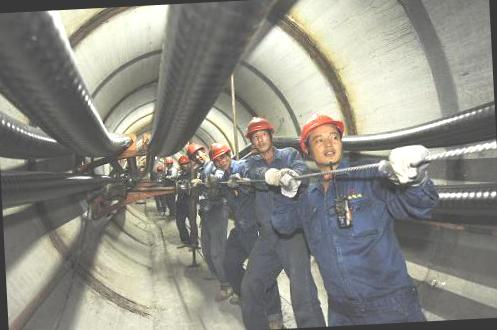person: (288, 110, 438, 327), (234, 114, 322, 328), (206, 136, 262, 322), (186, 142, 226, 296), (172, 154, 198, 249), (159, 154, 180, 224)
